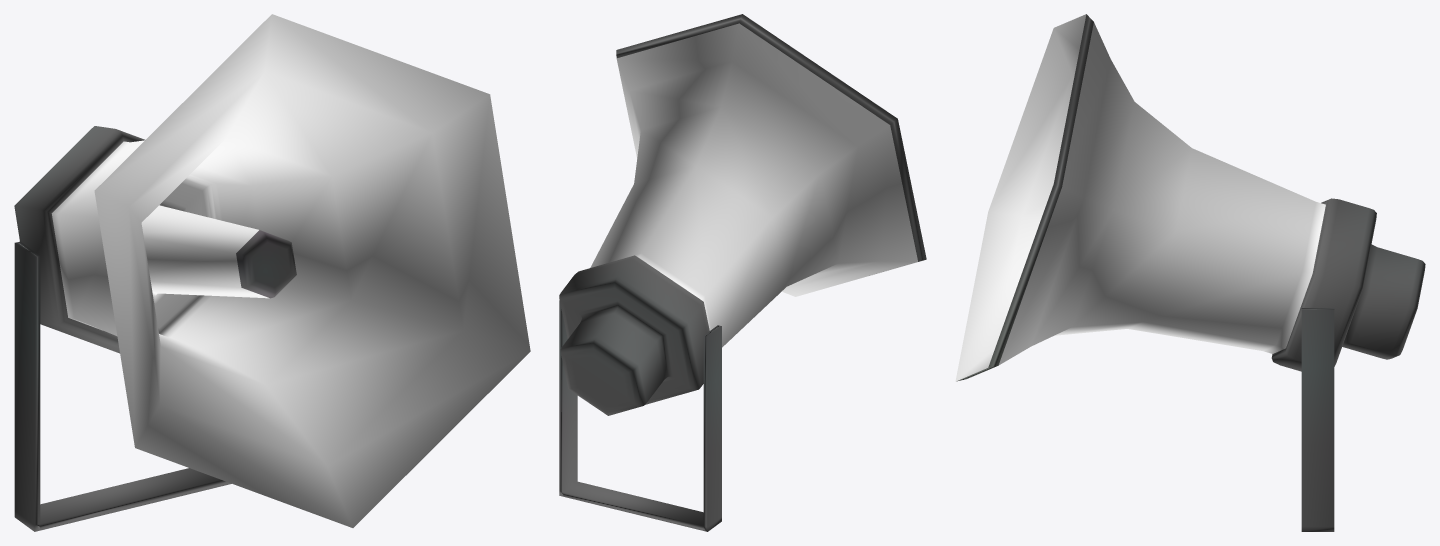
The model's file is hosi.ico.obj.
3 views of the same model, side by side, from view 1: azimuth 30°, elevation 25°; view 2: azimuth 150°, elevation 25°; view 3: azimuth 270°, elevation 25° (orthographic). The views are drawn at different scales.
Size of the model in its own units: 3.27 by 4.67 by 4.17.
Materials: 1 (1 with a texture image).
